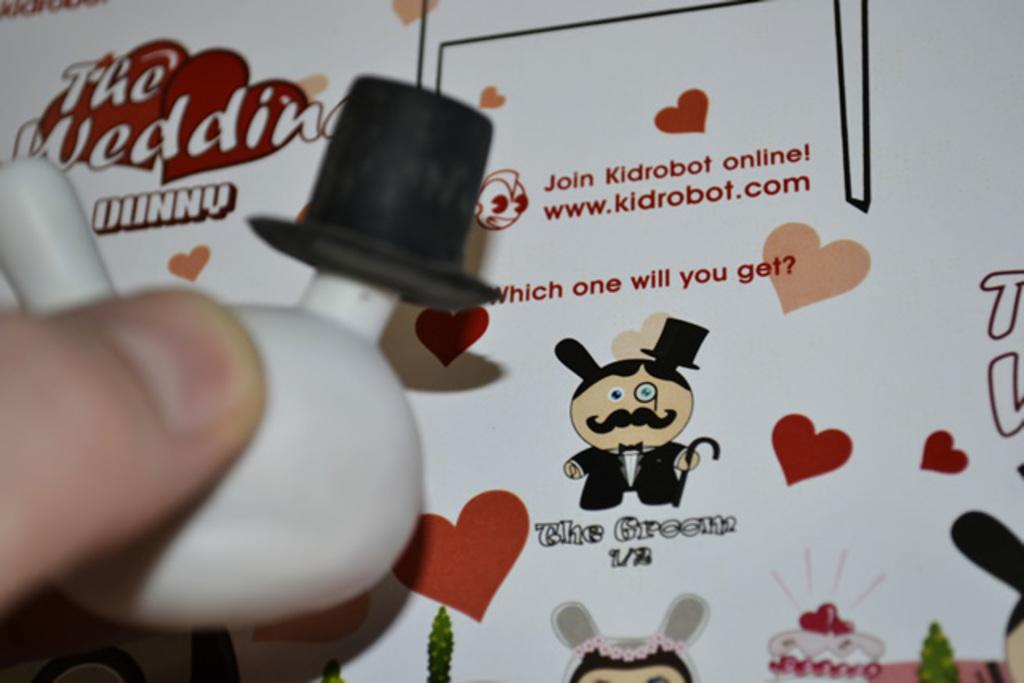Hat: (244, 78, 504, 313), (642, 314, 708, 370)
